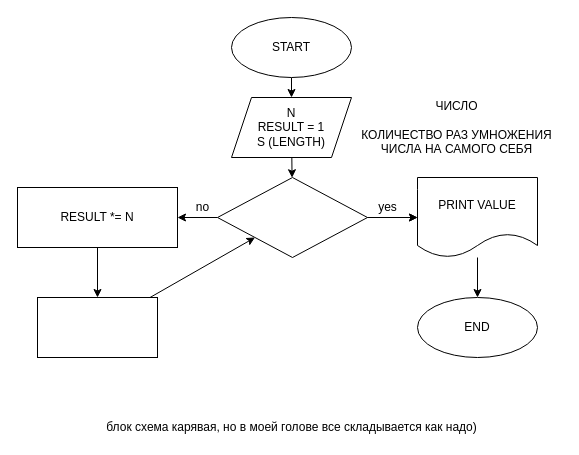
Some shapes in this 579 by 455 pixel diagram are drawn without their labels. The centre of each missing label's shape, as x and y in pixels:
"S == S ?" belongs at pixel 292 217.
"S++" belongs at pixel 97 327.
